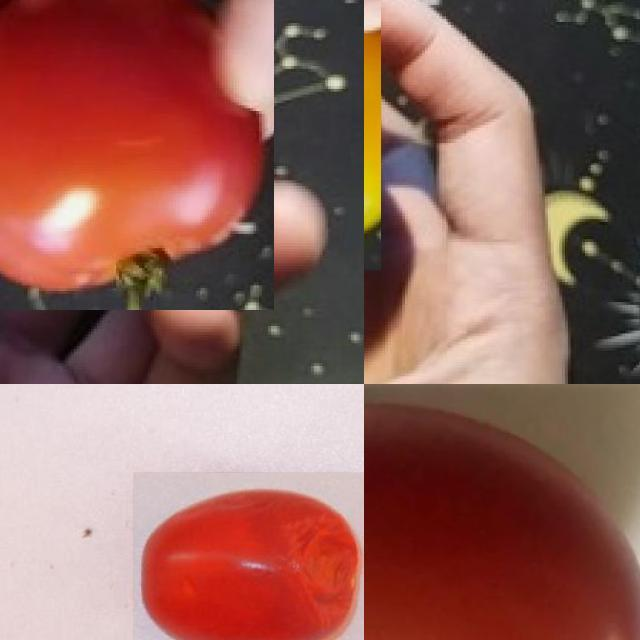Fresh Tomato: (0, 0, 273, 309), (364, 384, 640, 640)
Rotten Tomato: (133, 471, 364, 640)
